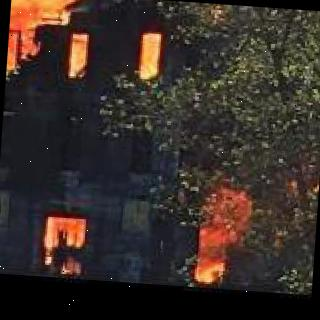fire: (1, 0, 295, 160)
